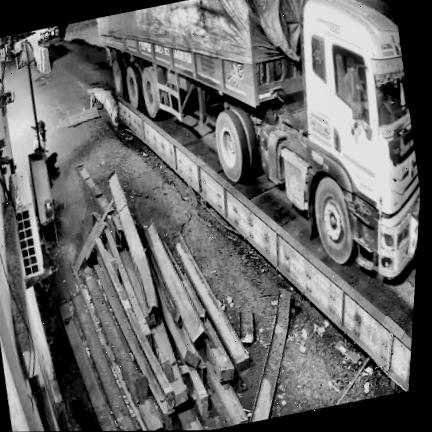tyre: (315, 177, 354, 264), (216, 110, 249, 182), (230, 107, 259, 174), (142, 66, 160, 118), (126, 64, 144, 108), (112, 58, 127, 98)
